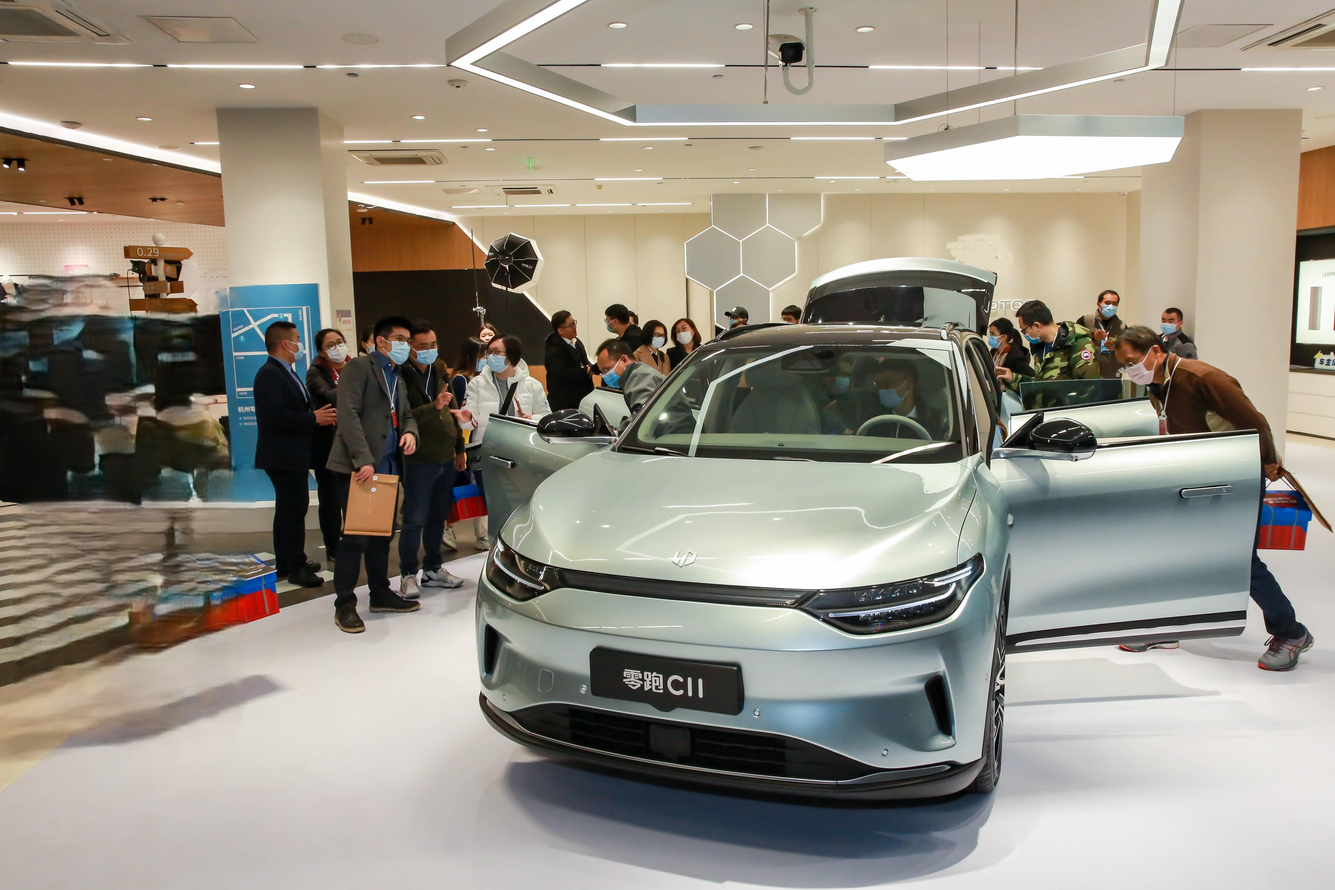LEAPMOTOR: (672, 549, 698, 567)
